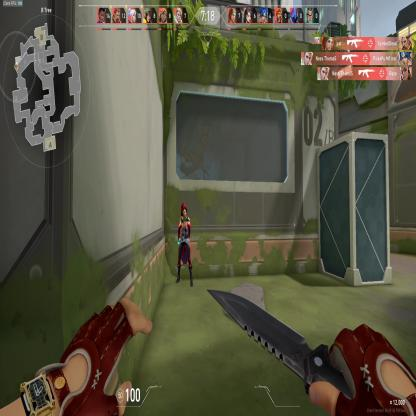enemy: (175, 200, 194, 288)
